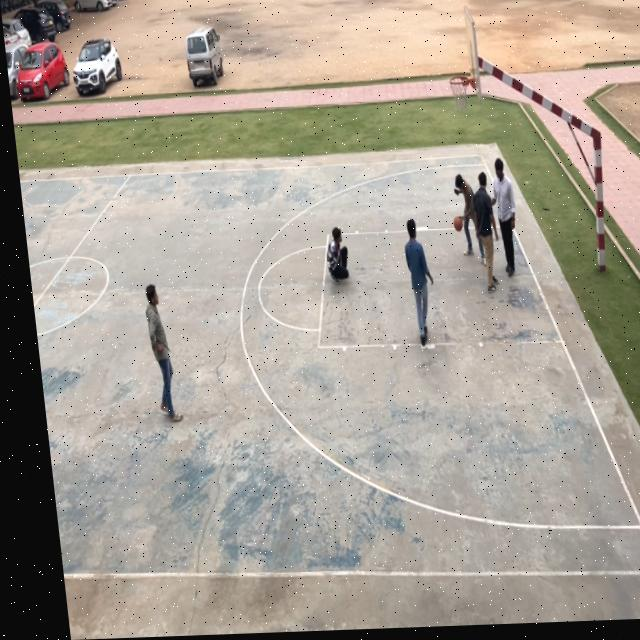basketball: (452, 214, 465, 234)
hoop: (447, 75, 472, 115)
